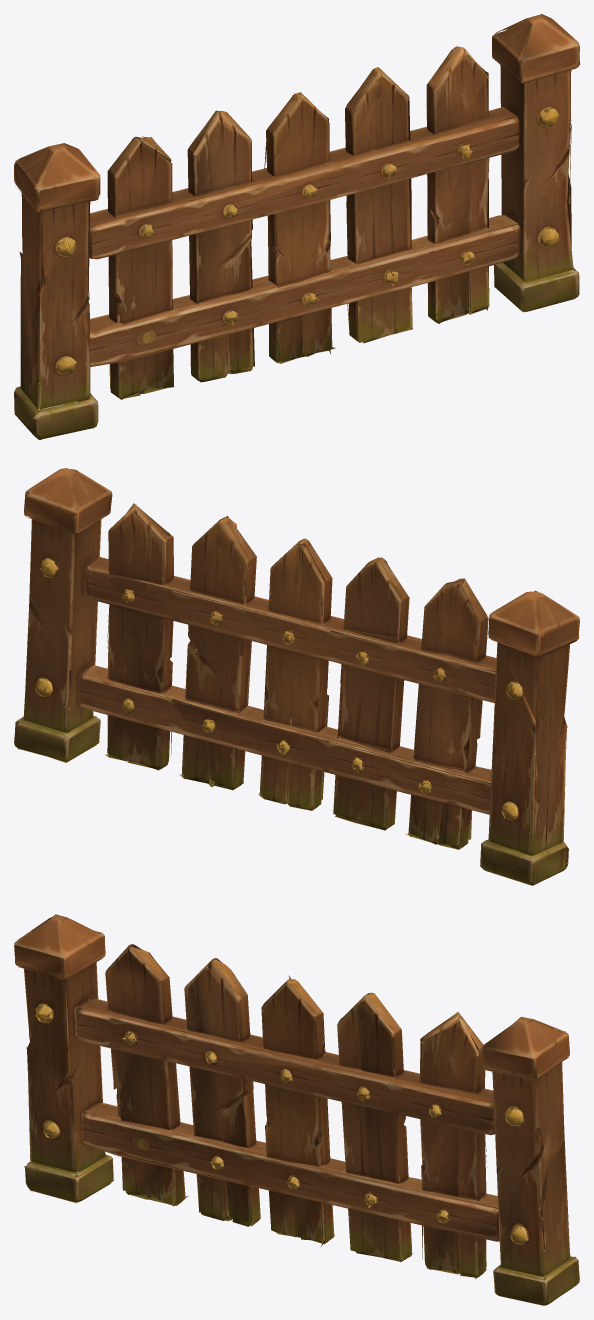
File: fence.glb
3 renders of one model, top to bottom at view 1: azimuth 30°, elevation 25°; view 2: azimuth 150°, elevation 25°; view 3: azimuth 330°, elevation 25°, orthographic. The views are drawn at different scales.
Parts seen in each view (by area): view 1: fence; view 2: fence; view 3: fence.
Part boxes in pixels (x1,y1,x2,y2): fence: [14, 14, 579, 439]; fence: [14, 468, 579, 885]; fence: [14, 914, 579, 1305].
Size of the model in its own units: 1.75 by 0.899 by 0.2319.
Materials: 1 (1 with a texture image).
